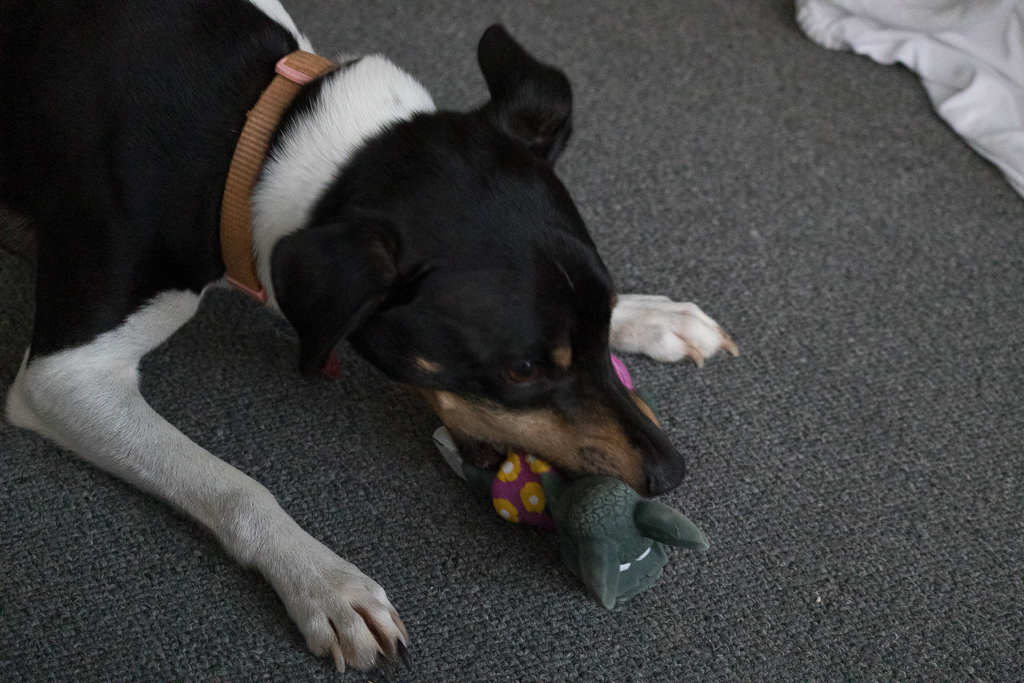Dog: (0, 0, 748, 678)
Humanoid: (424, 327, 727, 620)
